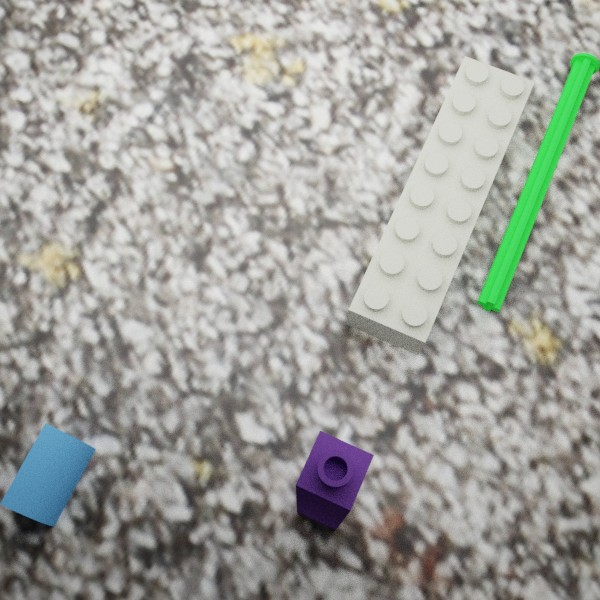lego: (345, 56, 534, 355), (477, 52, 599, 312), (0, 423, 95, 526), (295, 430, 374, 530)
